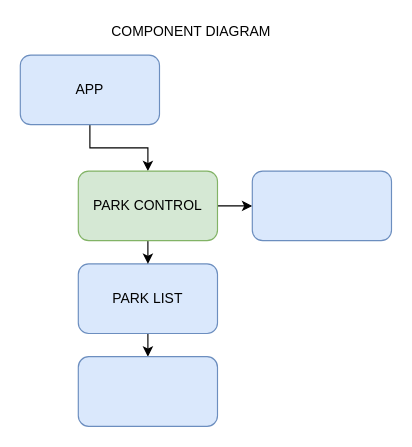
Image size: 412x447. Some labels were removed from this diagram. Here are the shapes that lost their labels. From the top down, the centre of each, then its label:
At (x=321, y=205): "PARK DETAILS".
At (x=147, y=391): "PARK".
